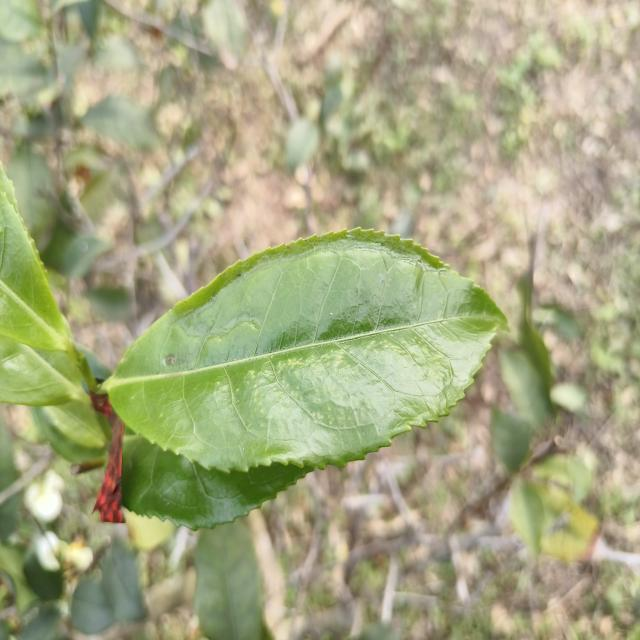Leaf: (106, 229, 506, 472), (122, 436, 313, 530), (0, 166, 70, 350), (195, 521, 262, 640), (0, 336, 84, 406), (31, 391, 108, 462), (7, 144, 56, 250), (519, 272, 552, 406), (82, 95, 160, 149), (101, 541, 146, 621), (203, 0, 246, 70), (0, 41, 48, 97), (490, 408, 531, 473), (510, 480, 544, 557), (71, 579, 115, 635), (23, 539, 63, 600), (62, 234, 110, 278), (286, 117, 319, 171), (0, 0, 41, 42), (87, 287, 132, 321), (95, 36, 139, 70), (566, 455, 592, 502)
